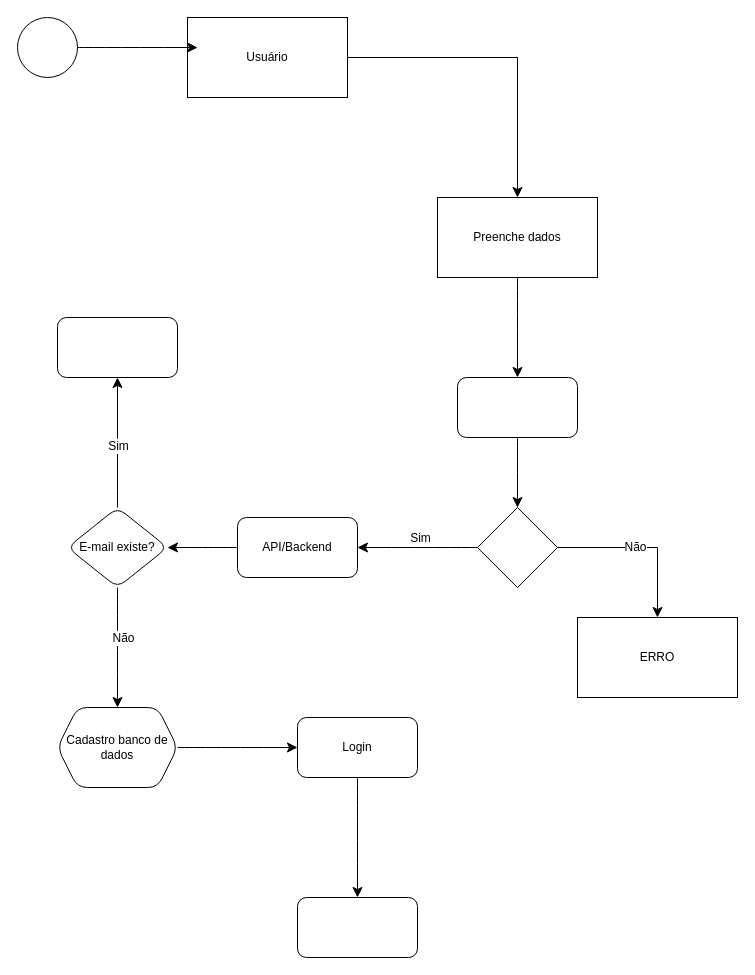
Image size: 755x975. Some labels were removed from this diagram. The box of each missing label's shape, as (x1, y1, x2, y2) in pixels:
Frontend: (456, 376, 578, 438)
Home logada: (296, 896, 418, 958)
Redireciona para tela de login: (56, 316, 178, 378)
Valida campos?: (476, 506, 558, 588)
